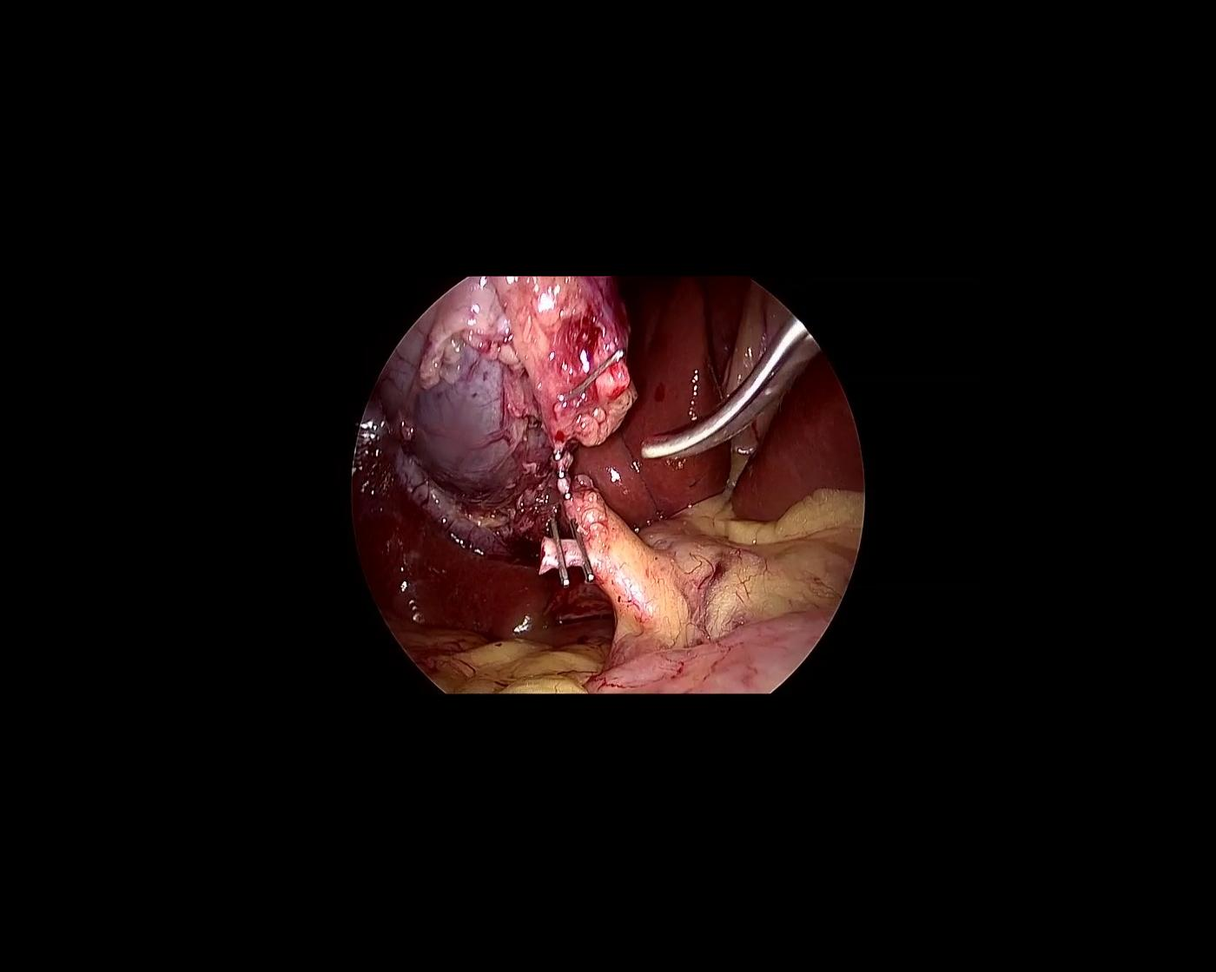Gallbladder: (330, 204, 685, 581)
Liver: (294, 437, 627, 721), (569, 271, 864, 527)
